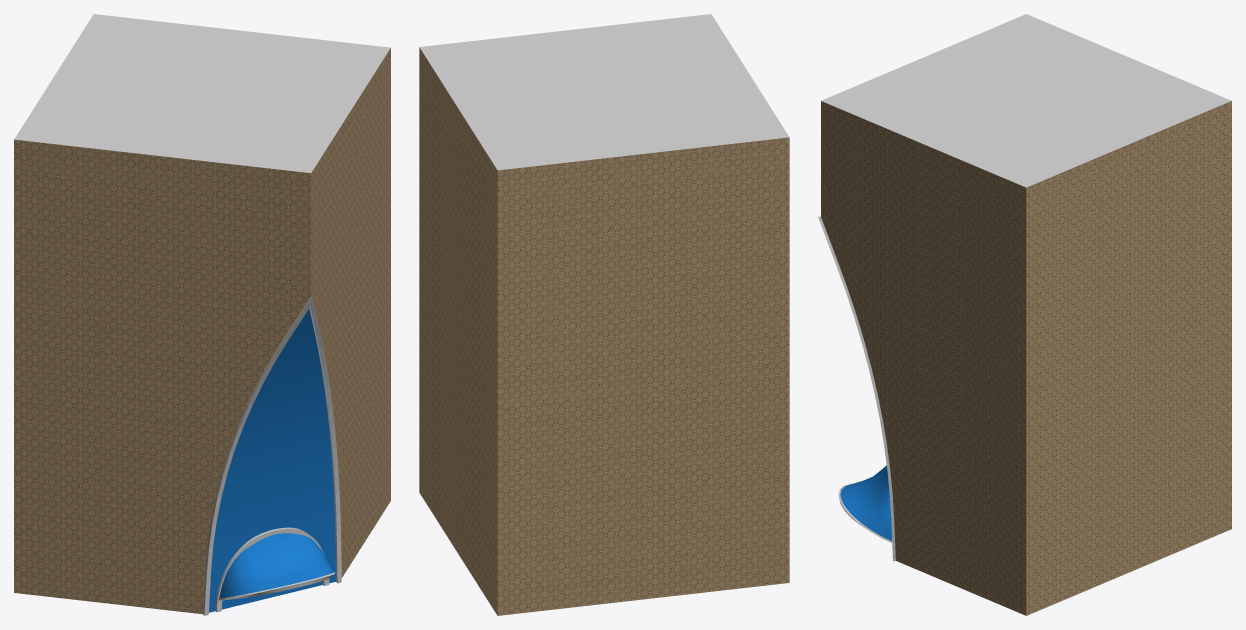
File: Gosi_Building.fbx
3 views of the same model, side by side, from view 1: azimuth 30°, elevation 25°; view 2: azimuth 150°, elevation 25°; view 3: azimuth 270°, elevation 25° (orthographic). The views are drawn at different scales.
Parts seen in each view (by area): view 1: Object003; view 2: Object003; view 3: Object003.
Boxes of the visible parts, x1,y1,x2,y2 form: Object003: (14,14,390,615); Object003: (419,14,789,615); Object003: (818,14,1231,615).
Size of the model in its own units: 364 by 419 by 366.
